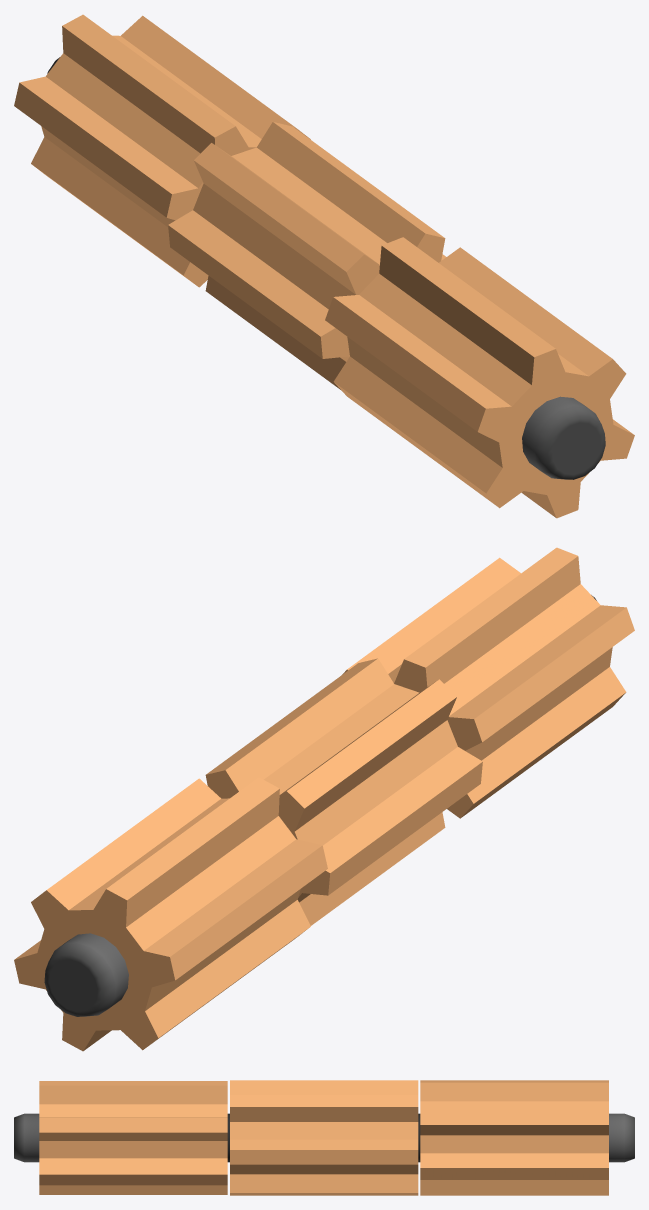
The model's file is obstacle_8_003.fbx.
The picture shows the model from 3 angles, top to bottom: view 1: azimuth 30°, elevation 25°; view 2: azimuth 150°, elevation 25°; view 3: azimuth 270°, elevation 25°; orthographic projection. The views are drawn at different scales.
Visible parts, largest first — view 1: obstacle_8_003; view 2: obstacle_8_003; view 3: obstacle_8_003.
Boxes of the visible parts, box(x1,y1,x2,y2) form: obstacle_8_003: box(14, 14, 634, 518); obstacle_8_003: box(14, 547, 634, 1051); obstacle_8_003: box(14, 1080, 634, 1195).
Bounding box in the file's own units: 116 × 622 × 116.
